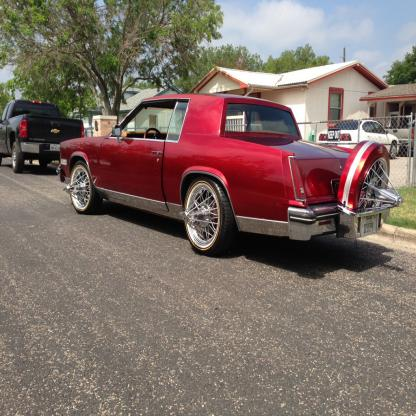Car: (56, 93, 404, 257), (319, 120, 400, 160)
Truck: (0, 99, 85, 174), (383, 115, 415, 156)
